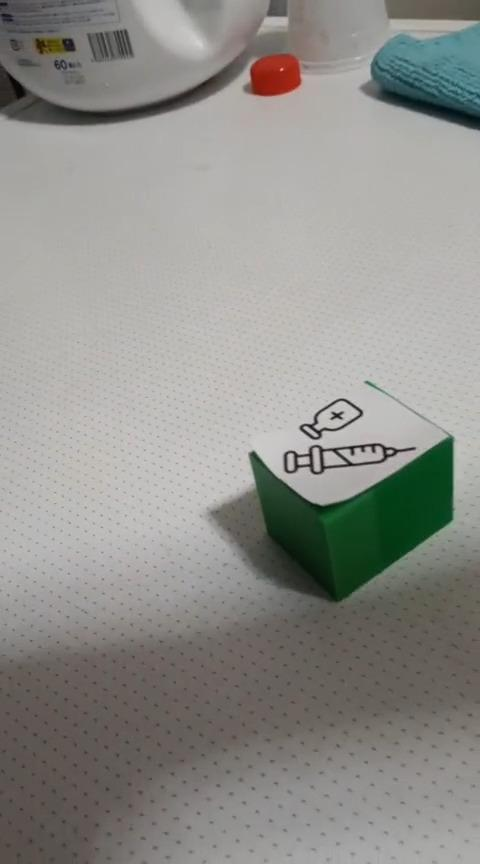antiseptic cream: (246, 377, 455, 601)
